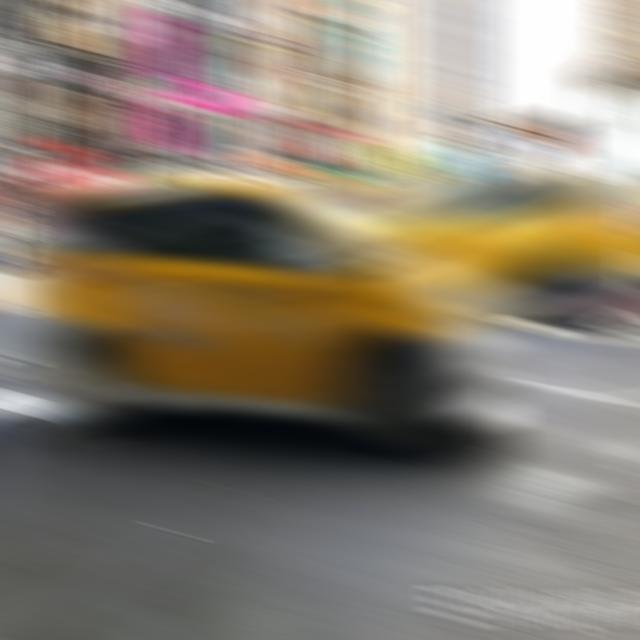Door: (374, 177, 640, 323)
Taxi: (12, 178, 518, 456)
